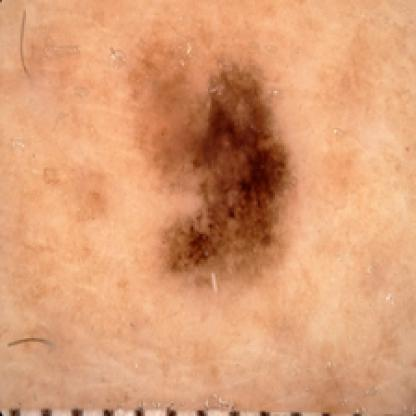malignant: (173, 61, 288, 266)
